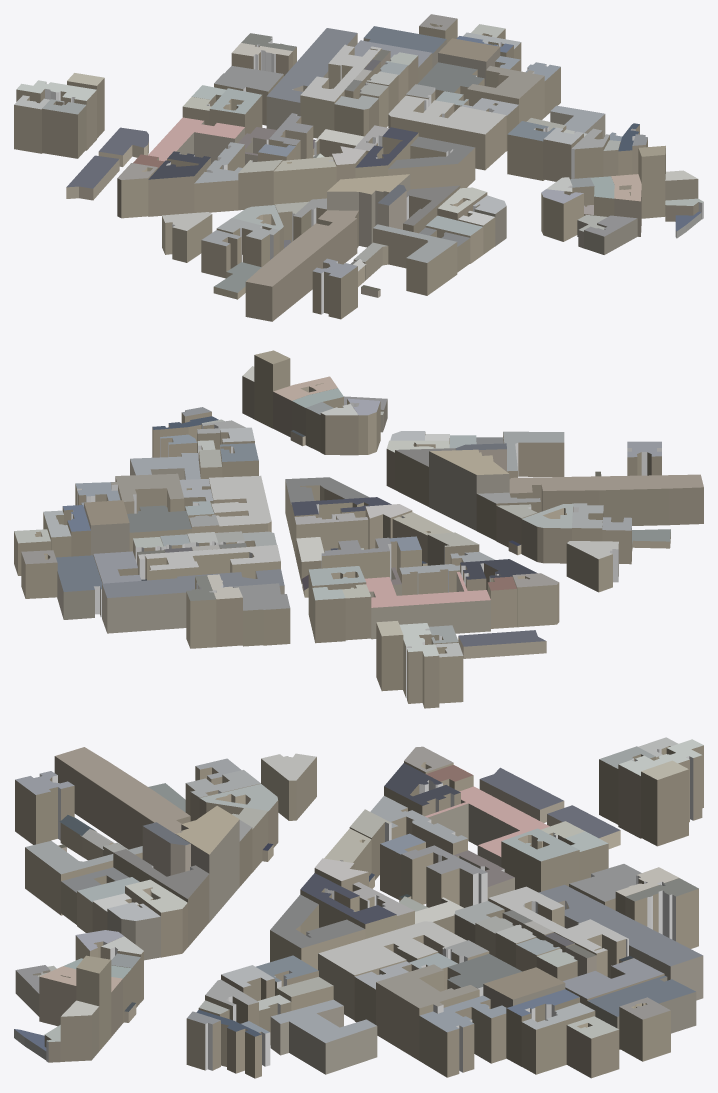
The picture shows the model from 3 angles, top to bottom: view 1: azimuth 30°, elevation 25°; view 2: azimuth 150°, elevation 25°; view 3: azimuth 270°, elevation 25°; orthographic projection. The views are drawn at different scales.
Visible parts, largest first — view 1: tuile; view 2: tuile; view 3: tuile.
Part boxes in pixels (bbox=[...]): tuile: bbox=[14, 14, 703, 321]; tuile: bbox=[14, 350, 703, 708]; tuile: bbox=[14, 737, 703, 1078].
Bounding box in the file's own units: 272 × 36.98 × 271.
